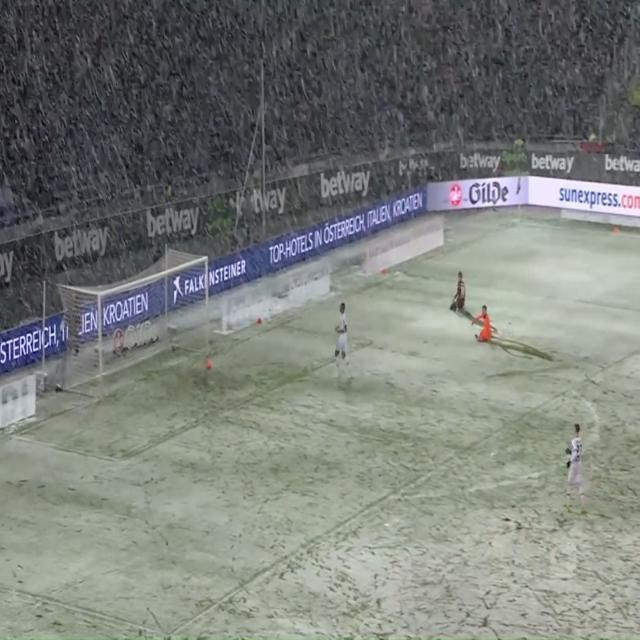ball: (204, 358, 214, 372)
goalkeeper: (472, 300, 493, 348)
player: (562, 419, 590, 519), (332, 299, 352, 373), (448, 266, 468, 318)
